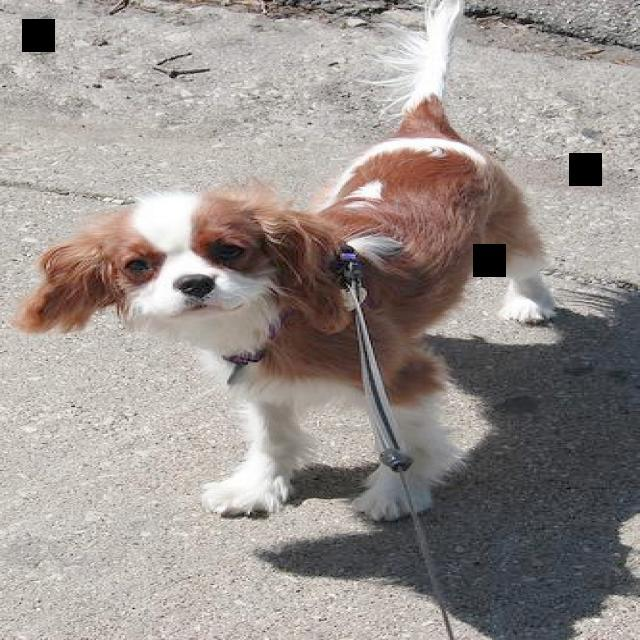adult_dog: (10, 0, 553, 523)
